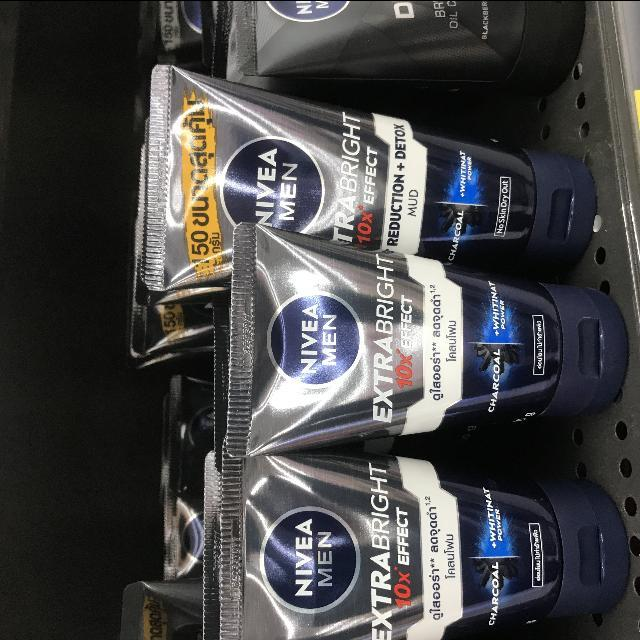Squeeze Tube: (145, 66, 603, 286), (226, 218, 637, 457), (207, 458, 635, 639)
